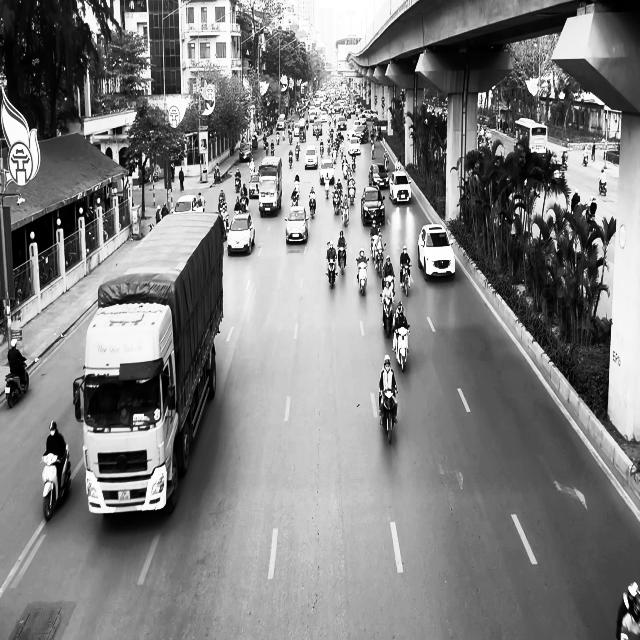bus: (513, 117, 548, 160)
car: (418, 223, 456, 280), (227, 212, 255, 256), (361, 186, 385, 227), (284, 206, 309, 244), (389, 171, 411, 204), (172, 194, 203, 213), (368, 163, 389, 188), (249, 173, 259, 198)
motorbike: (41, 444, 71, 521), (5, 361, 29, 408), (378, 388, 398, 444), (392, 324, 410, 372), (380, 292, 394, 338), (356, 257, 368, 296), (326, 256, 337, 288), (337, 245, 347, 274), (309, 195, 316, 217), (598, 178, 607, 195)
truck: (72, 211, 226, 516)
